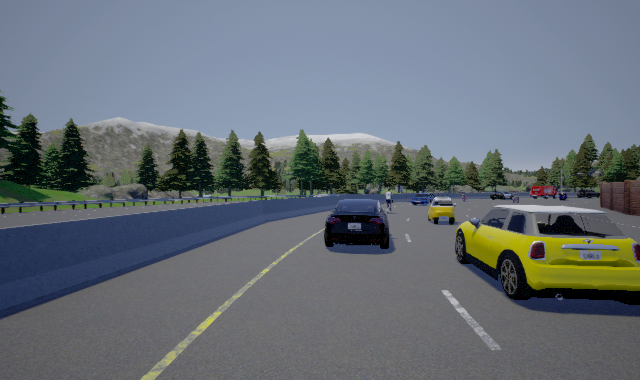bike: (383, 188, 395, 212)
vehicle: (455, 205, 640, 305), (324, 199, 391, 249), (429, 196, 456, 225), (530, 186, 557, 200), (411, 192, 435, 207), (488, 191, 515, 201)
